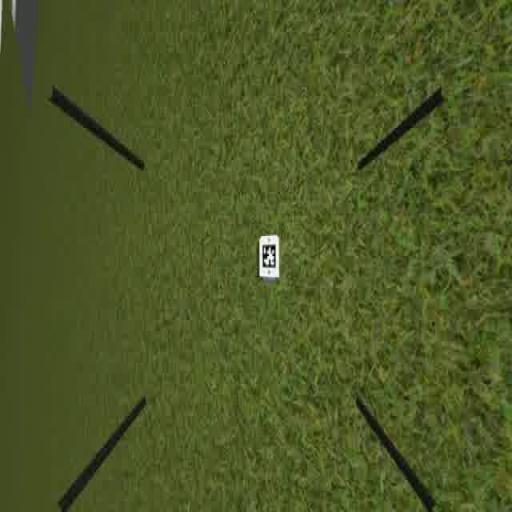UGV: (254, 229, 282, 283)
